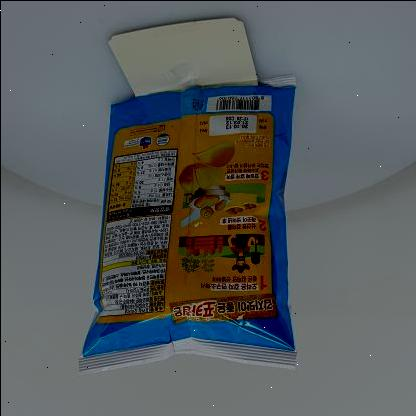Others: (70, 66, 312, 388)
